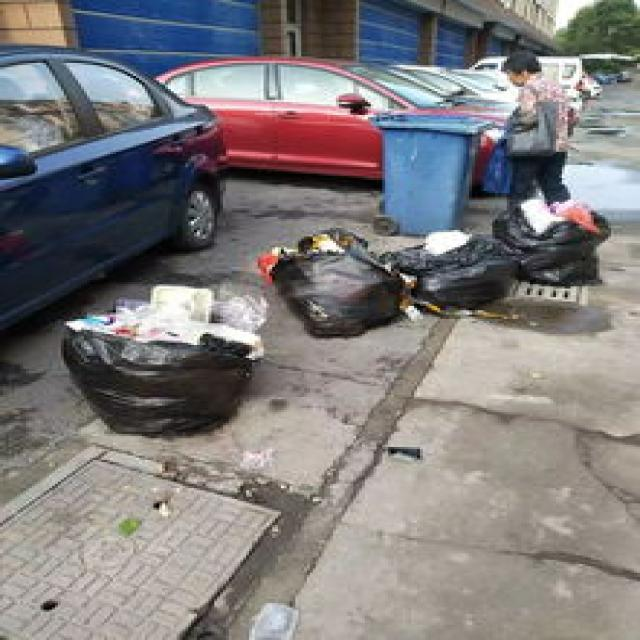garbage: (58, 189, 602, 436)
garbage_bin: (365, 109, 486, 232)
